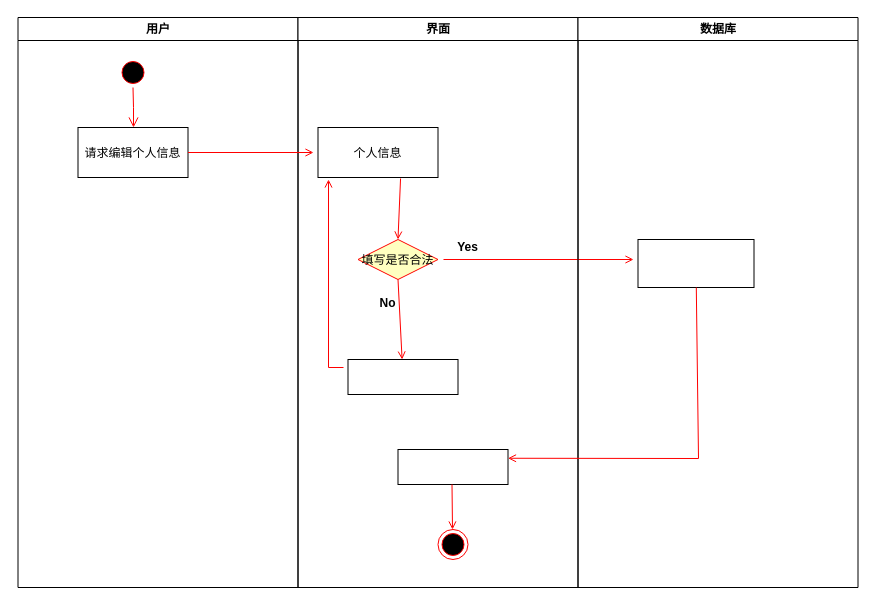
This 875x605 diagram has some shape labels left out. Here are the shapes that lost their labels. From the top down, the centre of each, then its label:
At point 695,263: "写入数据库".
At point 402,376: "系统提醒".
At point 452,466: "保存到个人信息".
